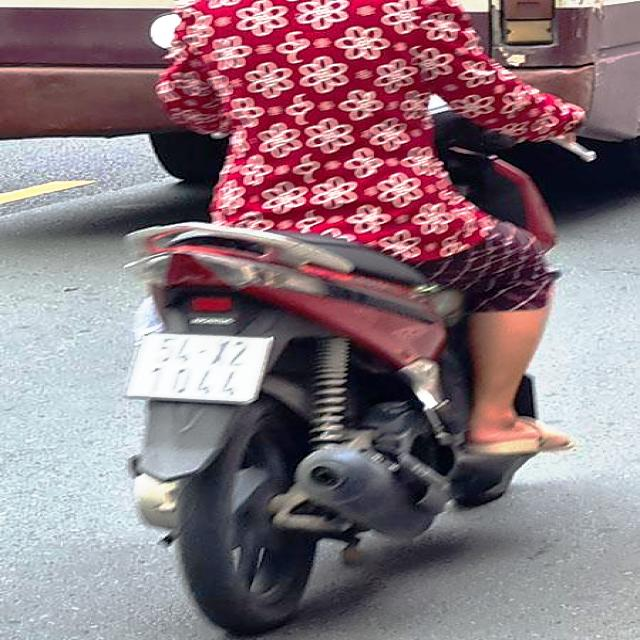license_plate: (125, 332, 273, 402)
